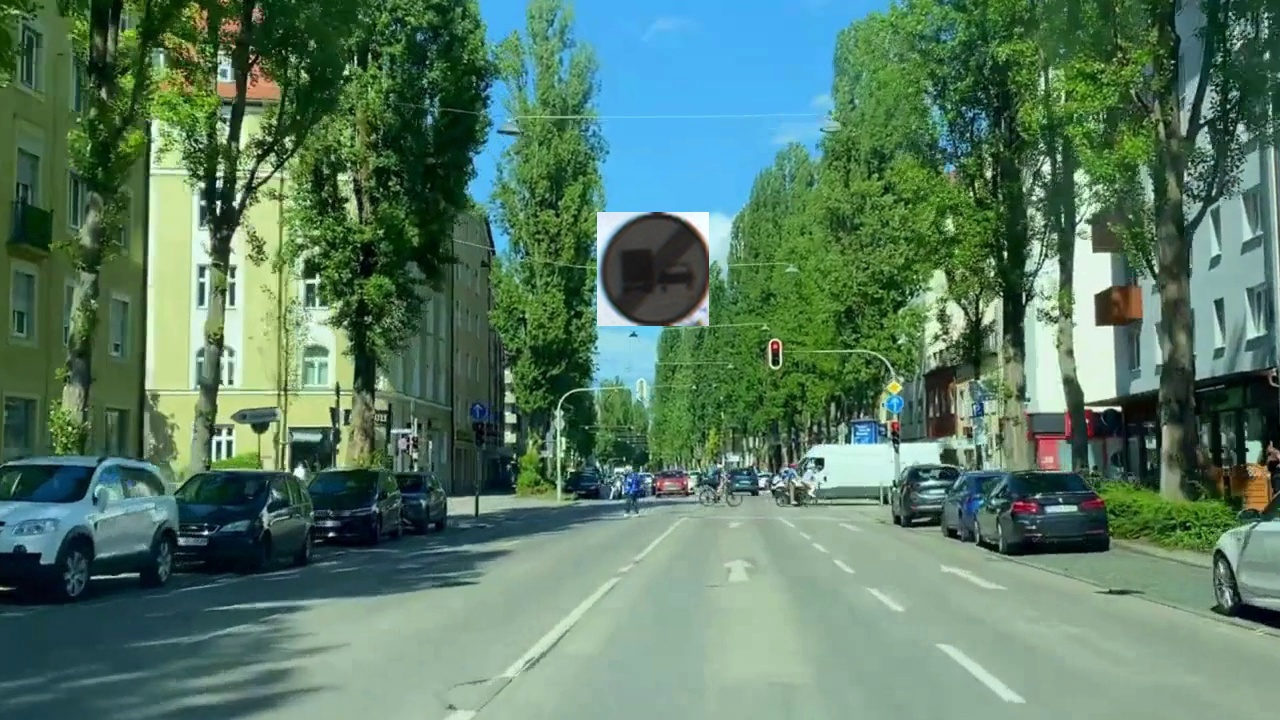End no pass >3.5t: (597, 212, 709, 326)
